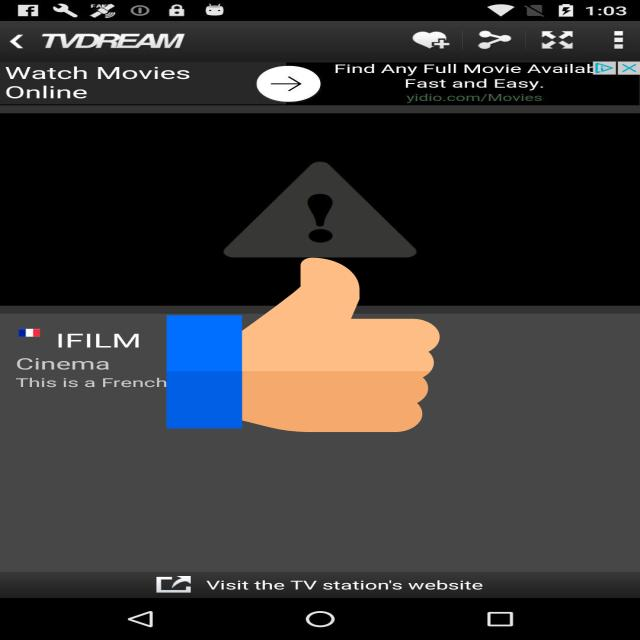privacy zuckering: (166, 254, 440, 436)
